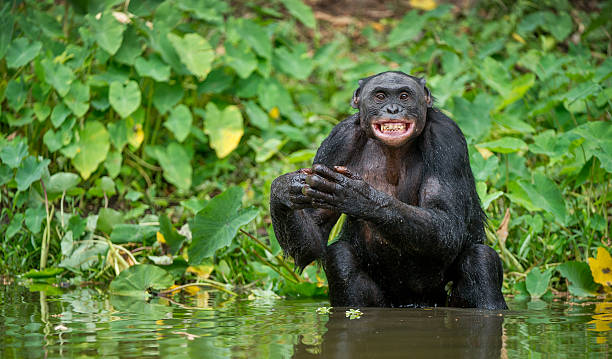chimpanzee: (342, 60, 454, 160)
